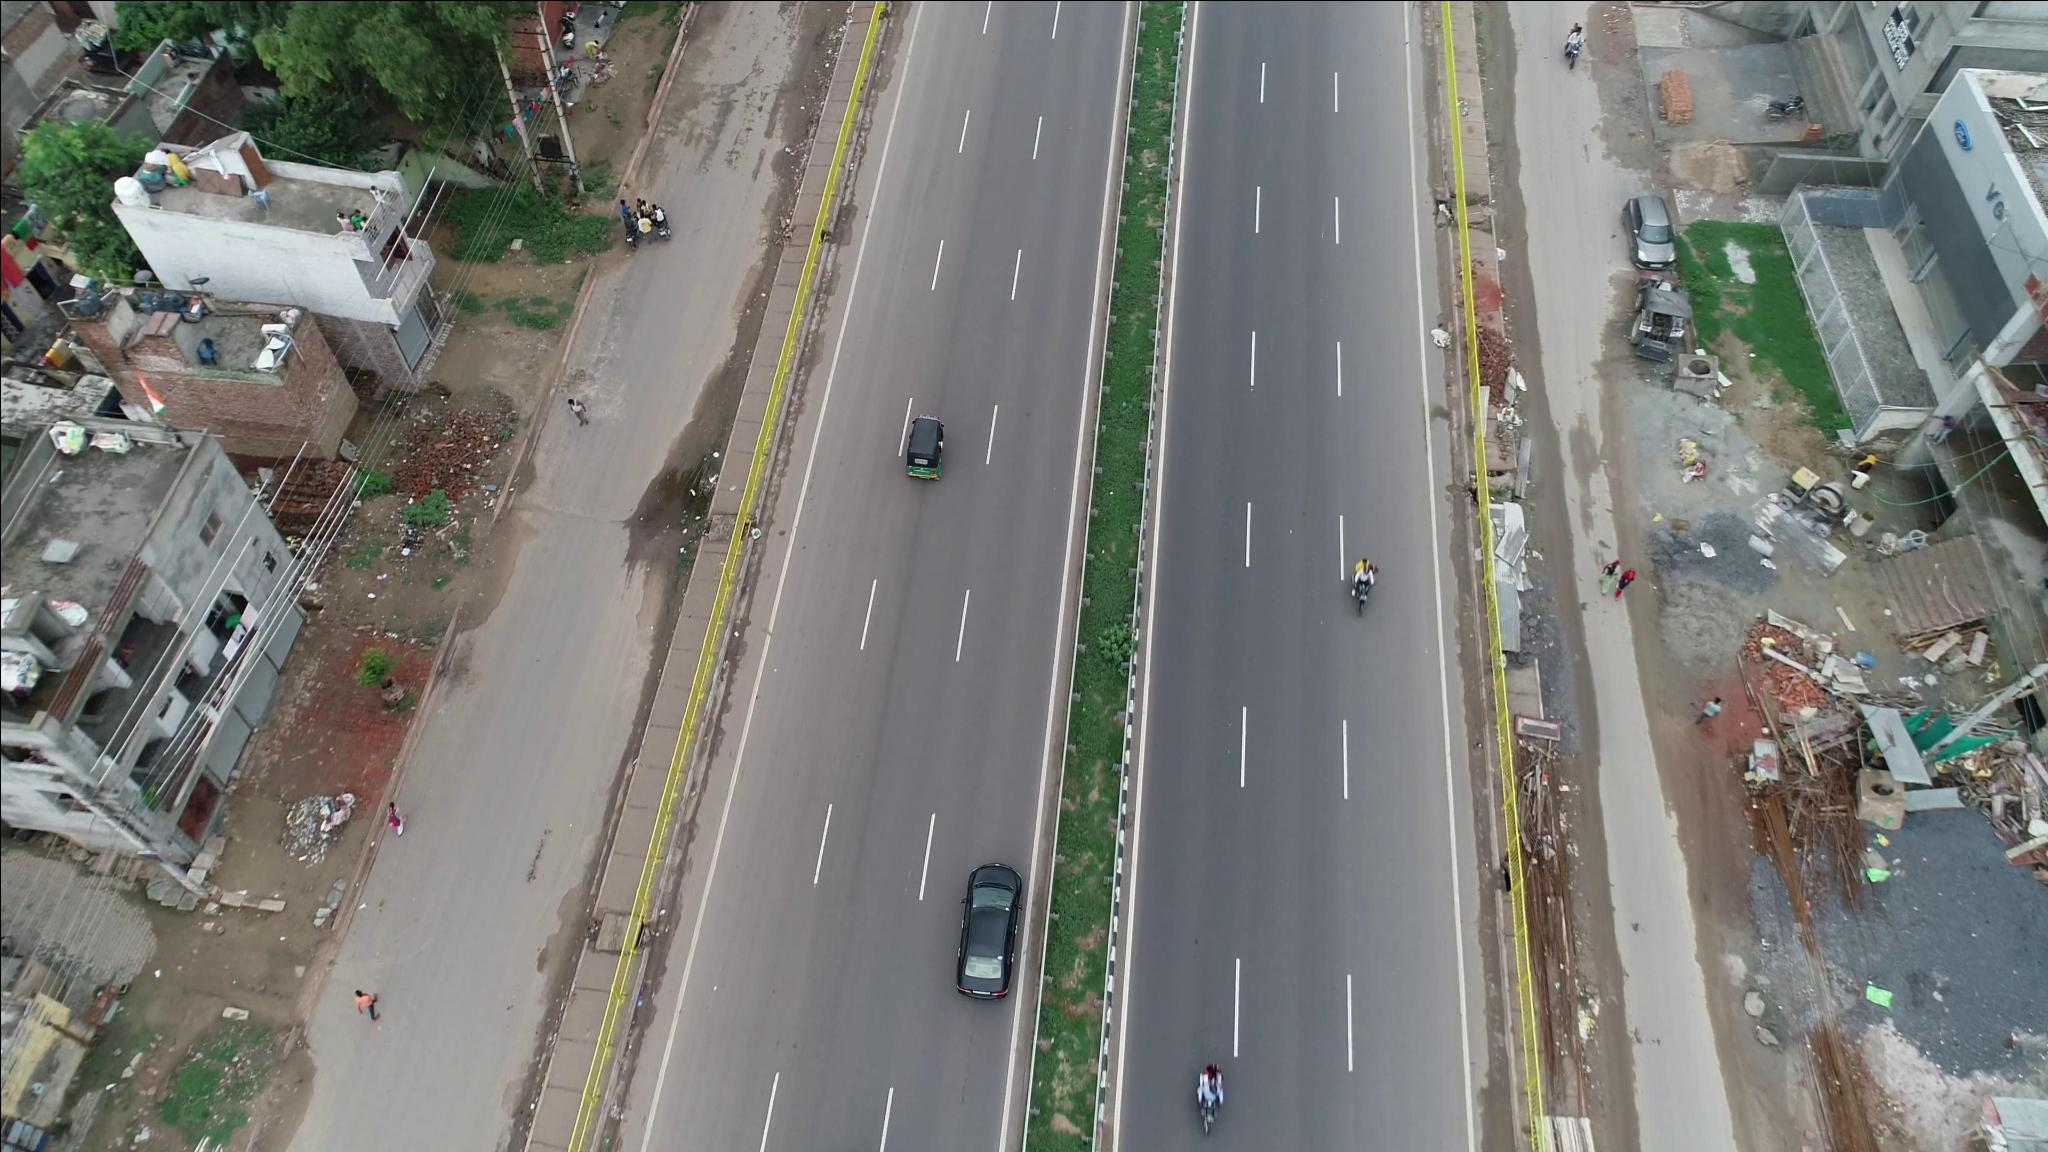Muddy_road: (1639, 655, 1722, 879)
